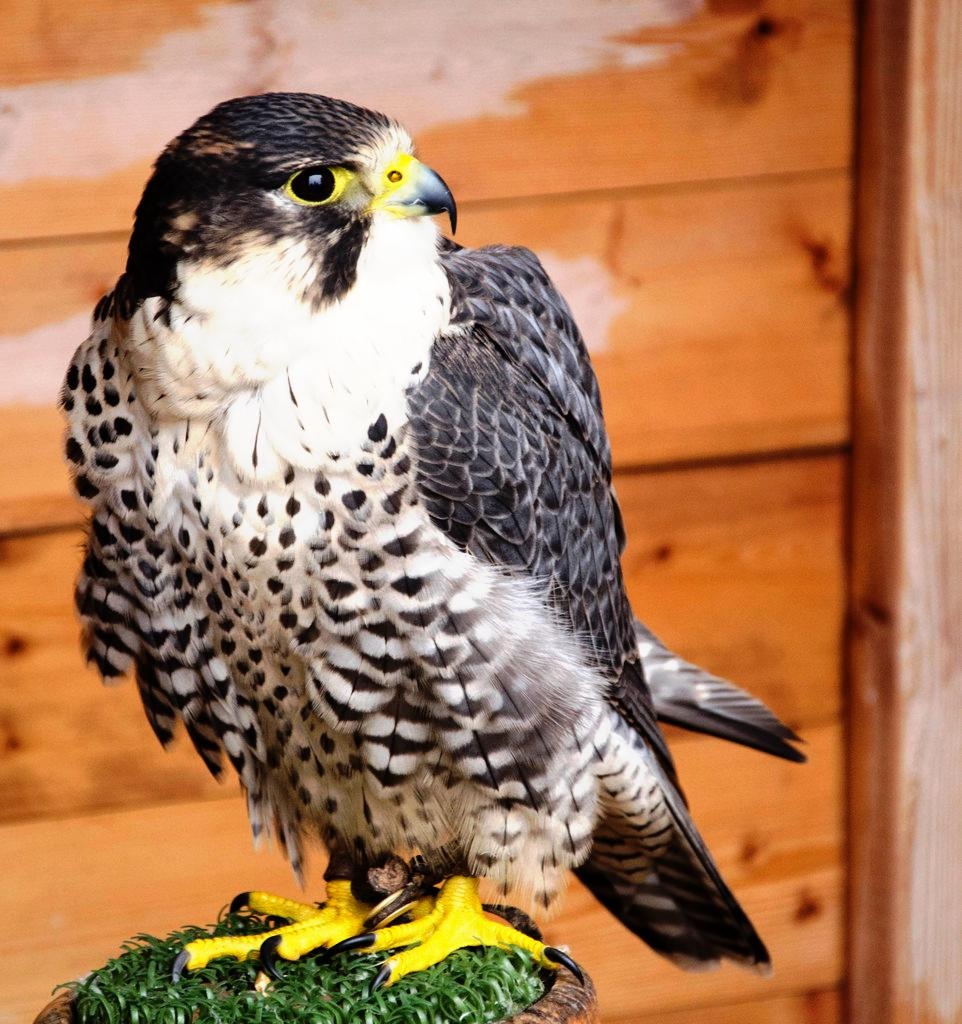Owl: (65, 88, 807, 992)
